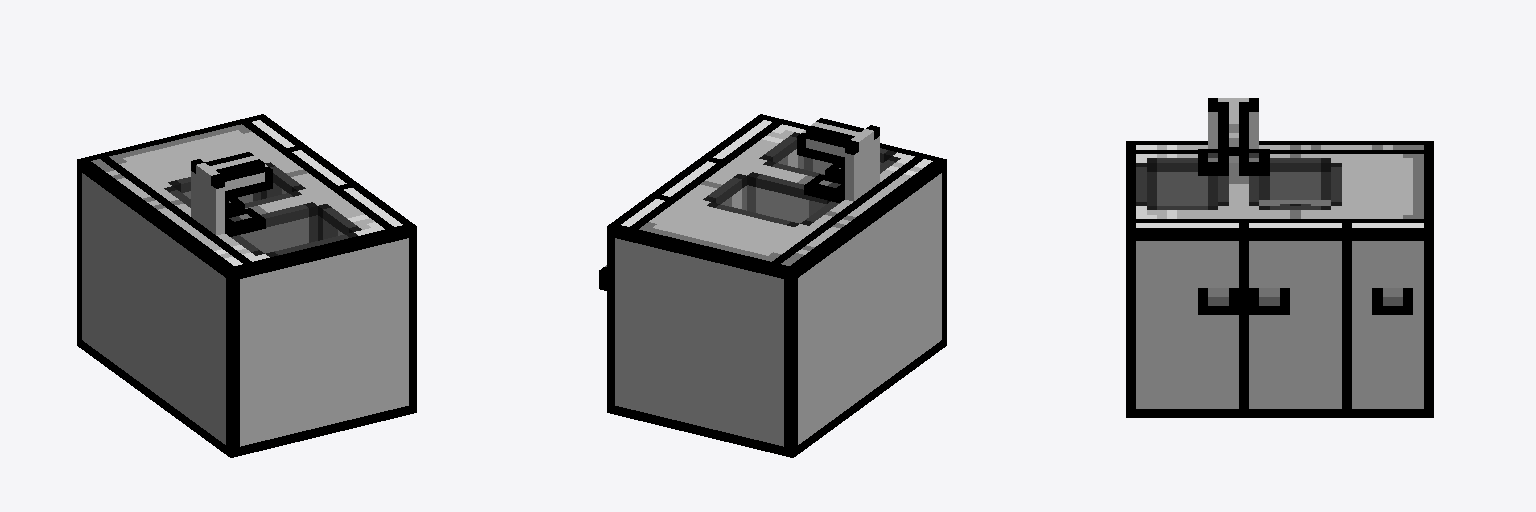
3 views of the same model, side by side, from view 1: azimuth 30°, elevation 25°; view 2: azimuth 150°, elevation 25°; view 3: azimuth 270°, elevation 25° (orthographic).
Visible parts, largest first — view 1: KitchenSink; view 2: KitchenSink; view 3: KitchenSink.
Boxes of the visible parts, x1=… form: KitchenSink: x1=77, y1=114, x2=416, y2=457; KitchenSink: x1=599, y1=114, x2=946, y2=457; KitchenSink: x1=1126, y1=98, x2=1433, y2=417.
Size of the model in its own units: 2.3 by 2.6 by 3.
1 materials, 1 textured.